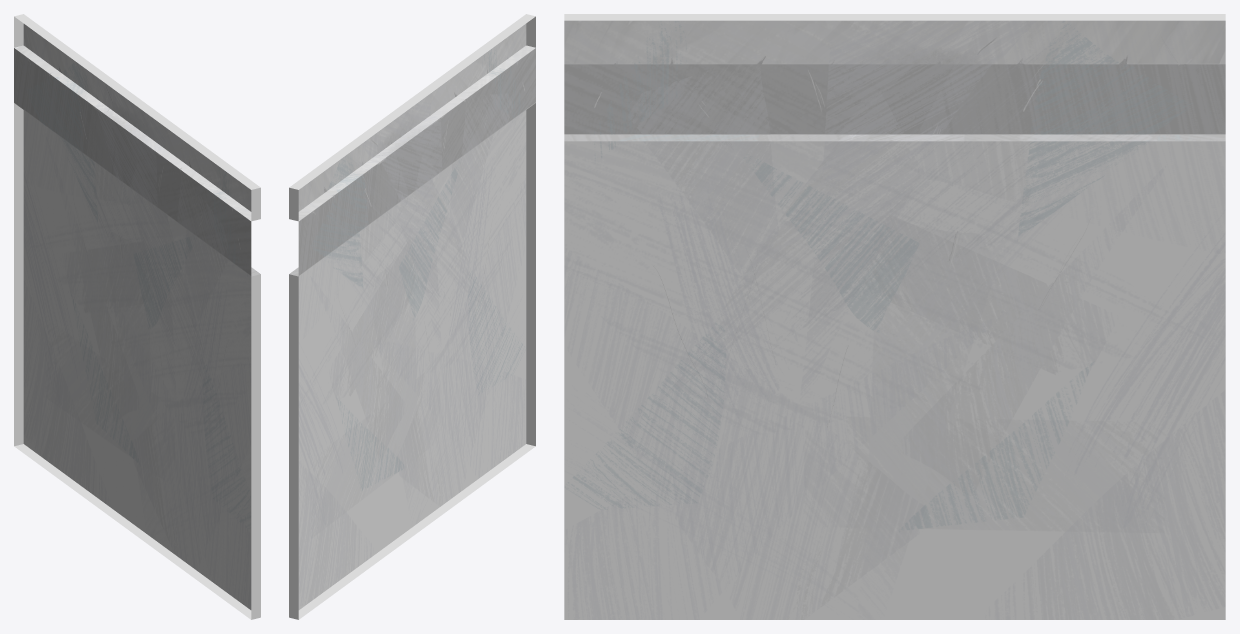
File: Square-Wall-Segment_white.fbx
The picture shows the model from 3 angles, left to right: view 1: azimuth 30°, elevation 25°; view 2: azimuth 150°, elevation 25°; view 3: azimuth 270°, elevation 25°; orthographic projection. The views are drawn at different scales.
Visible parts, largest first — view 1: Plane; view 2: Plane; view 3: Plane.
Part boxes in pixels (x1,y1,x2,y2): Plane: [14, 14, 260, 619]; Plane: [289, 14, 535, 619]; Plane: [564, 14, 1225, 619].
Bounding box in the file's own units: 4.72 × 200 × 200.
